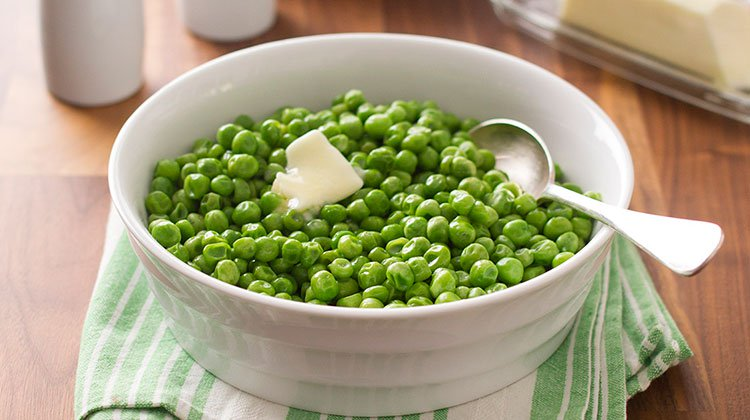boiled peas: (206, 172, 514, 277)
